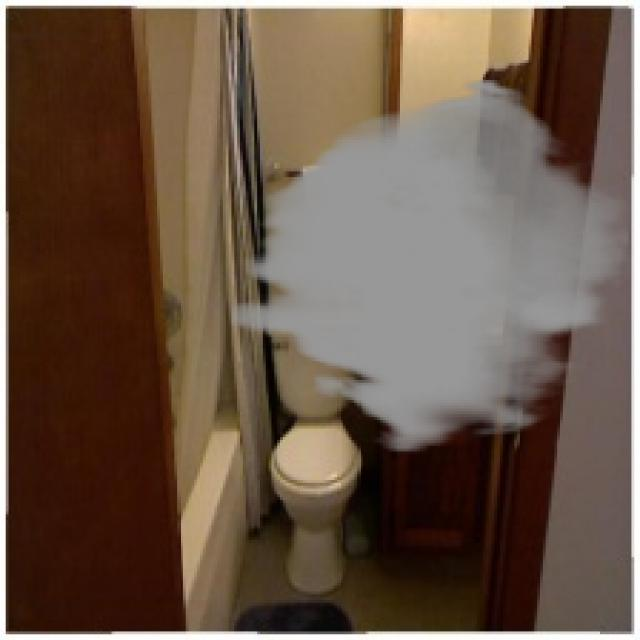smoke: (232, 77, 628, 454)
